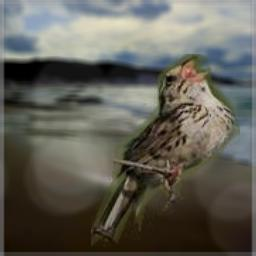Sparrow: (91, 54, 240, 247)
